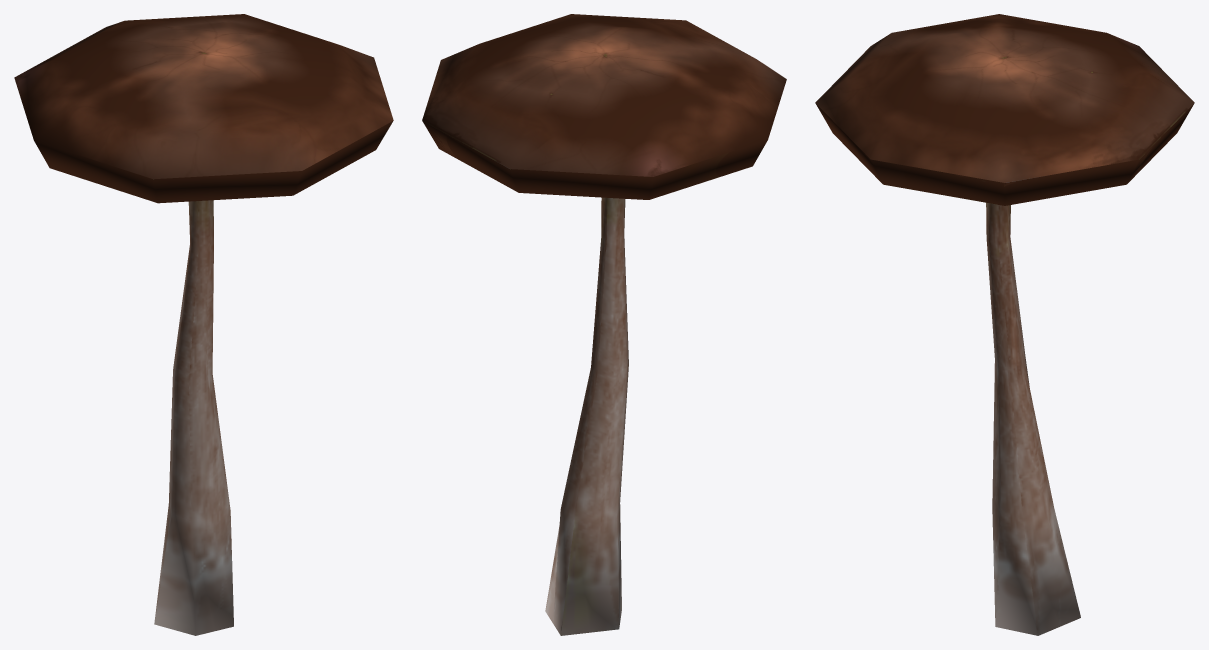
The model's file is mushroom3.gltf.
3 views of the same model, side by side, from view 1: azimuth 30°, elevation 25°; view 2: azimuth 150°, elevation 25°; view 3: azimuth 270°, elevation 25° (orthographic). The views are drawn at different scales.
Parts seen in each view (by area): view 1: shroom; view 2: shroom; view 3: shroom.
Boxes of the visible parts, box(x1,y1,x2,y2) form: shroom: box(14, 14, 393, 635); shroom: box(422, 14, 786, 635); shroom: box(815, 14, 1194, 635).
Bounding box in the file's own units: 0.1107 × 0.1794 × 0.1107.
Materials: 1 (1 with a texture image).
